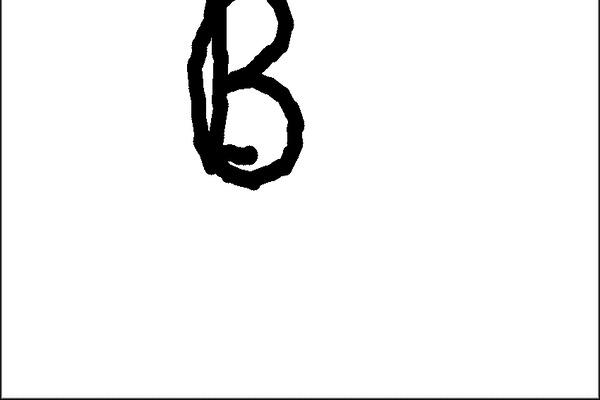B: (172, 1, 320, 194)
